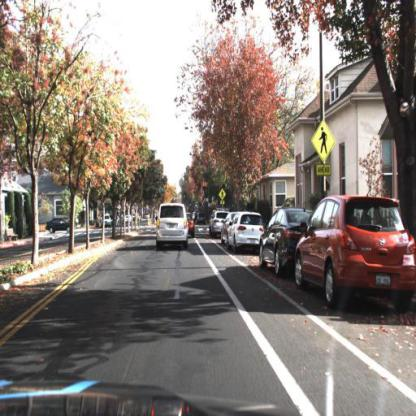car: (294, 195, 416, 312), (296, 194, 416, 306), (258, 204, 313, 277), (259, 205, 294, 273), (153, 199, 190, 252), (225, 210, 265, 256), (46, 216, 76, 237), (45, 215, 72, 235), (187, 212, 198, 243), (186, 211, 196, 240)
